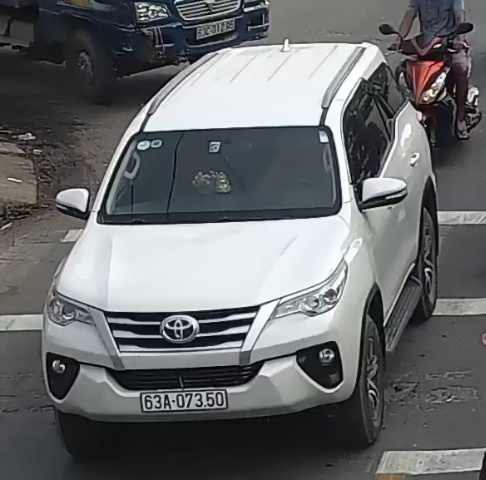vehicle plate: (134, 381, 235, 414)
